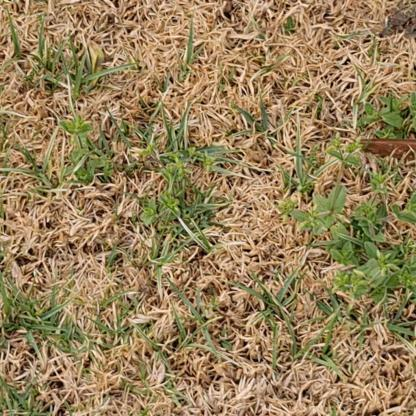Weeds: (271, 140, 415, 304), (58, 113, 215, 235), (357, 89, 415, 142)
